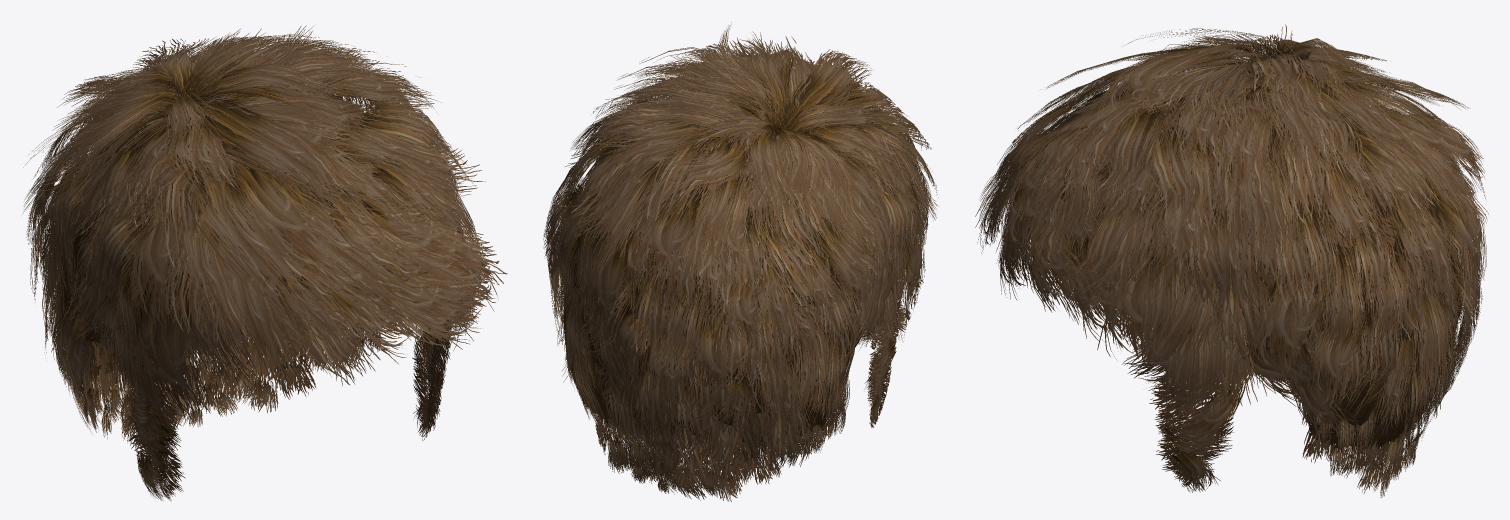
File: manSuit2.obj
3 views of the same model, side by side, from view 1: azimuth 30°, elevation 25°; view 2: azimuth 150°, elevation 25°; view 3: azimuth 270°, elevation 25° (orthographic). The views are drawn at different scales.
Parts seen in each view (by area): view 1: RL_HairMesh; view 2: RL_HairMesh; view 3: RL_HairMesh.
Part boxes in pixels (left/top/right/bottom): RL_HairMesh: left=23, top=25, right=507, bottom=500; RL_HairMesh: left=543, top=22, right=938, bottom=501; RL_HairMesh: left=975, top=24, right=1488, bottom=497.
Size of the model in its own units: 18.73 by 21.48 by 23.6.
